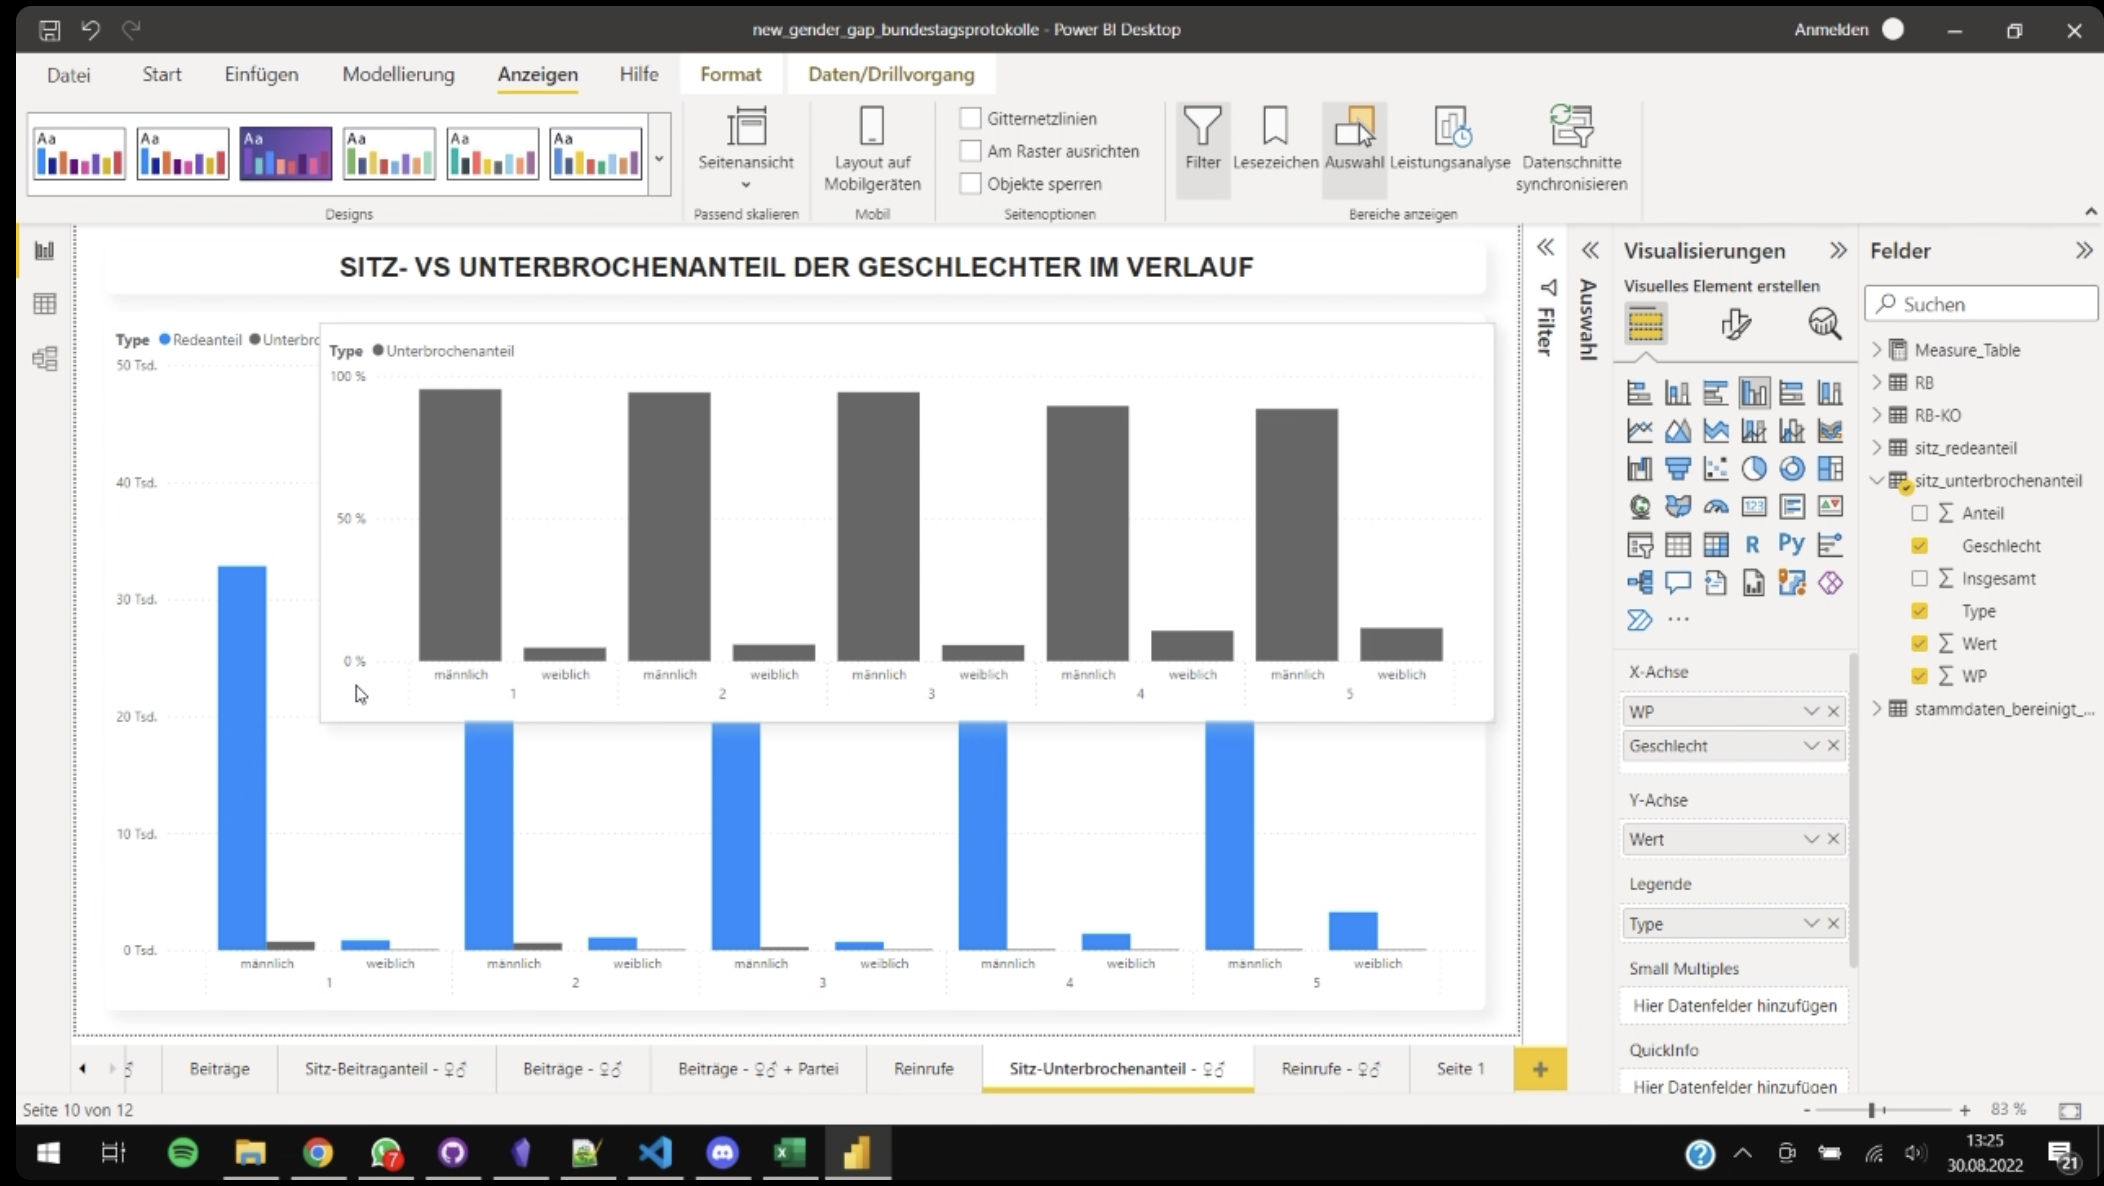

What the dashboard file says about the page in this screenshot:
{"tool":"powerbi","page":{"name":"Sitz-Unterbrochenanteil - ♀♂","canvas":[1280,720],"ordinal":9},"visuals":[{"type":"textbox","box":[27.1,16.8,1224.5,45.2],"z":1000},{"type":"clusteredColumnChart","fields":{"Category":["sitz_unterbrochenanteil.WP","sitz_unterbrochenanteil.Geschlecht"],"Series":["sitz_unterbrochenanteil.Type"],"Y":["Sum(sitz_unterbrochenanteil.Anteil)"]},"box":[26.5,78.4,1224.1,619.9],"z":2000}]}

Visuals, with their boxes on the page's 1280x720 design canvas (x1, y1, x2, y2). These are canvas units, not pixel positions in the 2104x1186 screenshot, which may show the page scaled, cropped or inside an application window:
textbox: pyautogui.locateOnScreen(27, 17, 1252, 62)
clusteredColumnChart - sitz_unterbrochenanteil.WP x sitz_unterbrochenanteil.Geschlecht: pyautogui.locateOnScreen(26, 78, 1251, 698)
